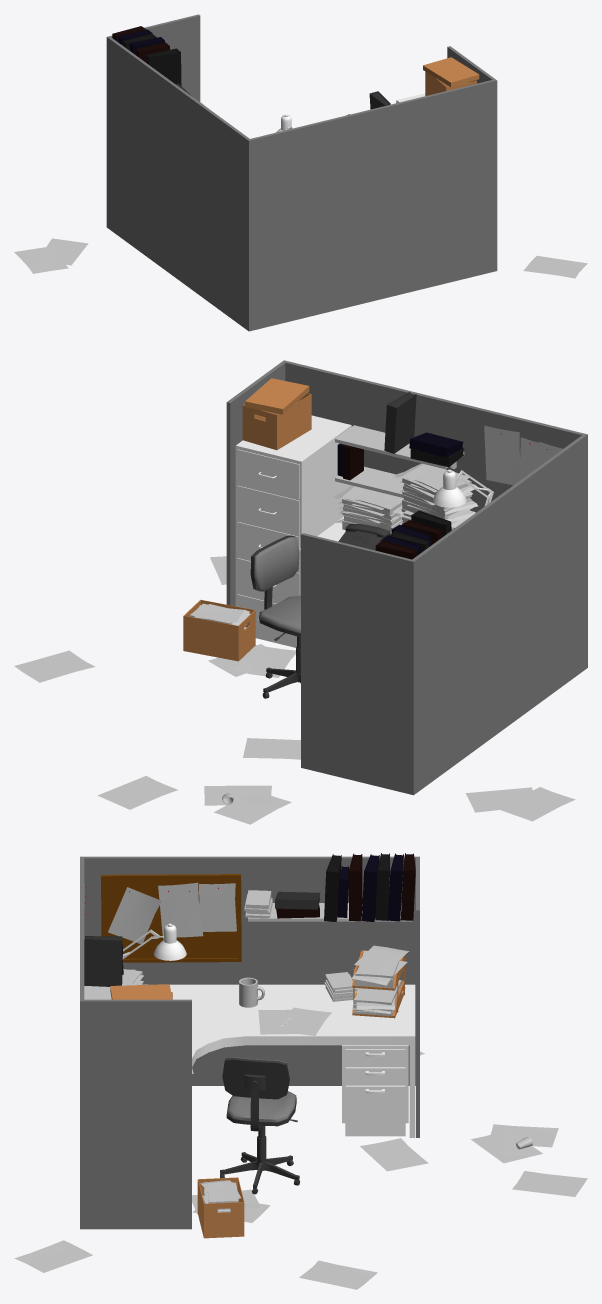
File: cubicle-merged.glb
3 renders of one model, top to bottom at view 1: azimuth 30°, elevation 25°; view 2: azimuth 150°, elevation 25°; view 3: azimuth 270°, elevation 25°, orthographic. The views are drawn at different scales.
Parts seen in each view (by area): view 1: Table_Plane.024; view 2: Table_Plane.024; view 3: Table_Plane.024.
Part boxes in pixels (x1,y1,x2,y2): Table_Plane.024: (14, 14, 587, 331); Table_Plane.024: (14, 360, 587, 824); Table_Plane.024: (14, 853, 587, 1289).
Bounding box in the file's own units: 18.84 × 7.72 × 17.19.
